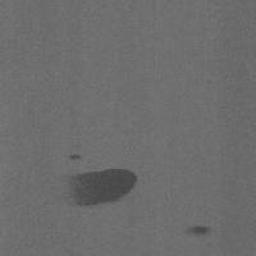Oil spot: (69, 168, 138, 207), (186, 225, 211, 237), (68, 152, 82, 160)
